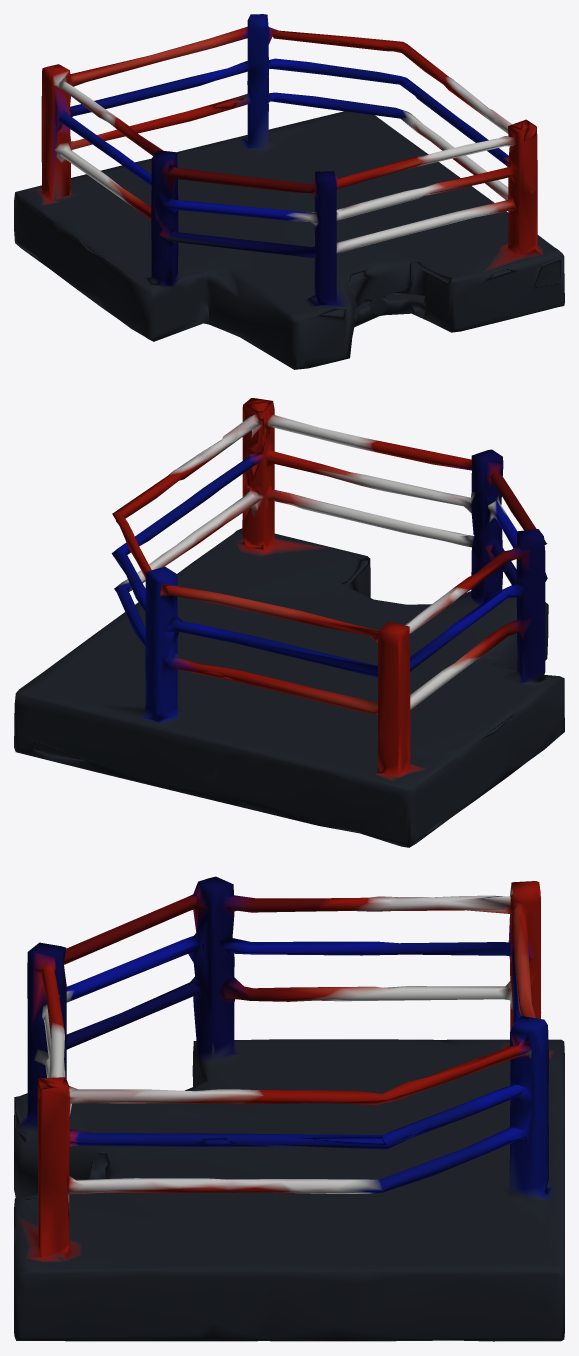
Rendered from gen3d-boxing-ring-lod0.glb.
3 views of the same model, one above another, from view 1: azimuth 30°, elevation 25°; view 2: azimuth 150°, elevation 25°; view 3: azimuth 270°, elevation 25° (orthographic). The views are drawn at different scales.
Visible parts, largest first — view 1: part_0; view 2: part_0; view 3: part_0.
Part boxes in pixels (bbox=[...]): part_0: bbox=[14, 14, 564, 369]; part_0: bbox=[14, 398, 564, 847]; part_0: bbox=[14, 876, 564, 1341].
Bounding box in the file's own units: 2.05 × 0.9989 × 2.05.
